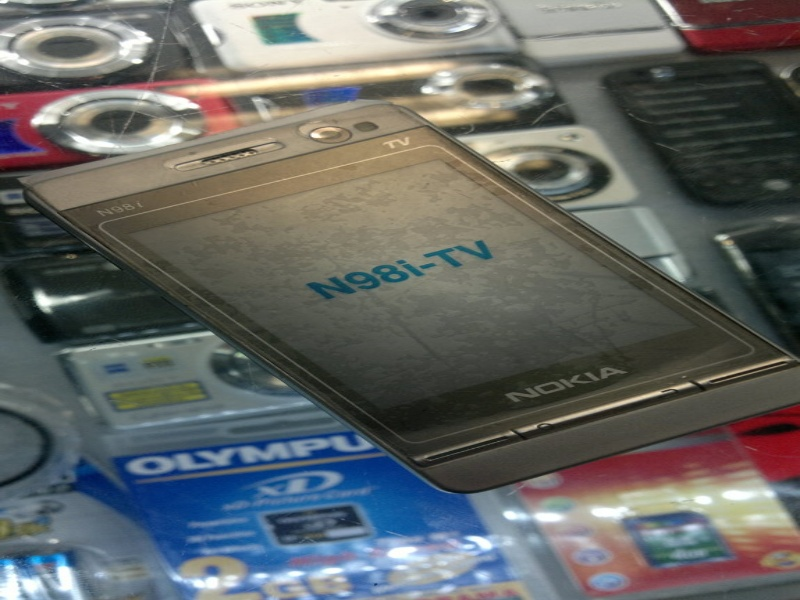Mobile Phone: (12, 88, 800, 481)
